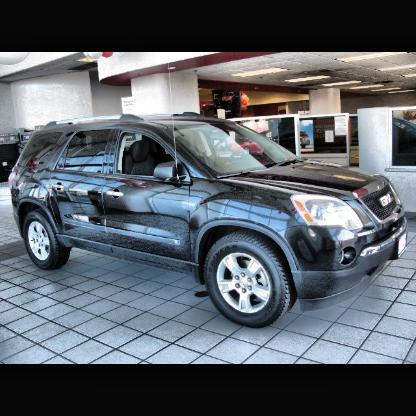GMC Acadia SUV 2012: (9, 111, 406, 327)
